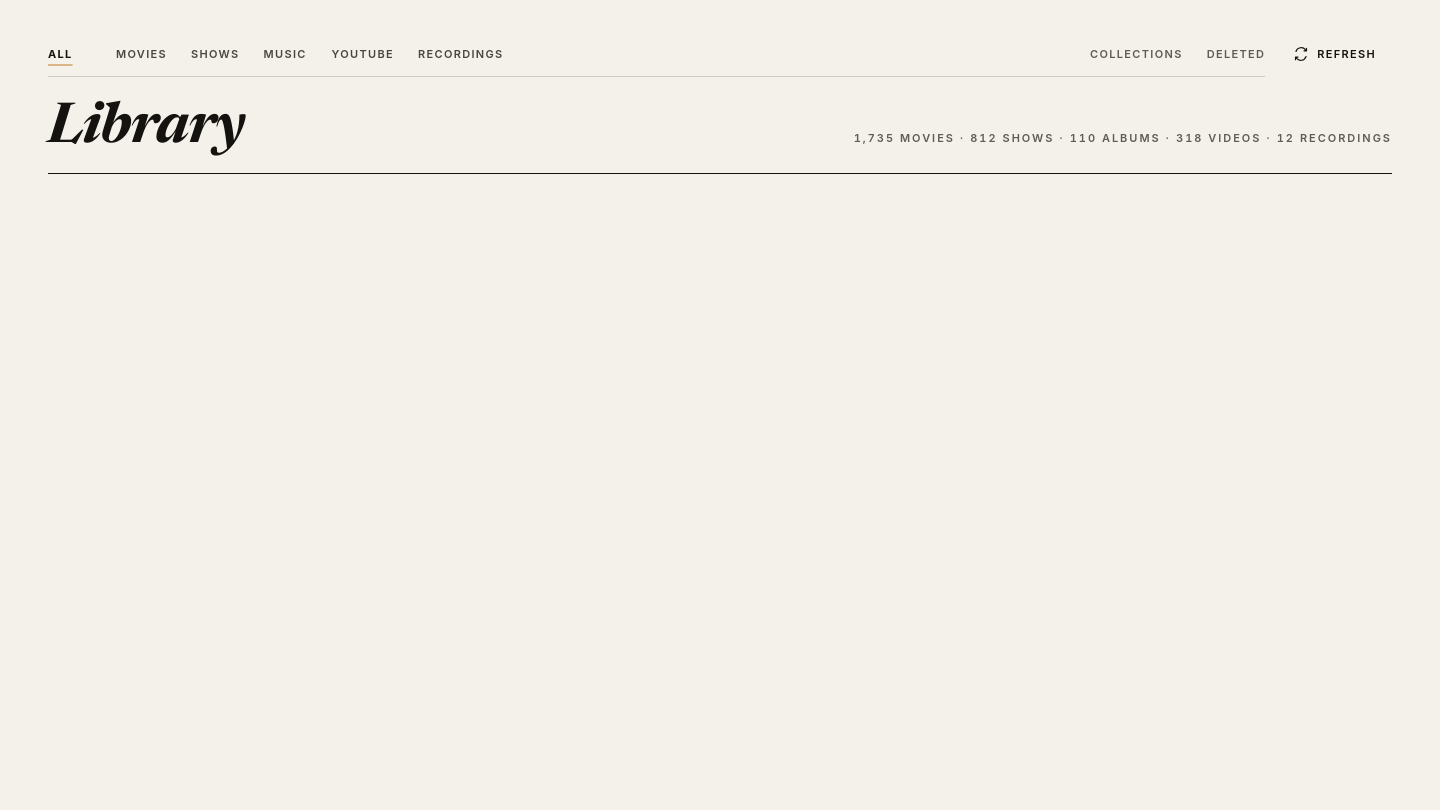
Test: Library lenses › reports when an owner has no eligible folders to scan
Click the button "Refresh".
click(1335, 54)  # box [1277,32,1392,76]
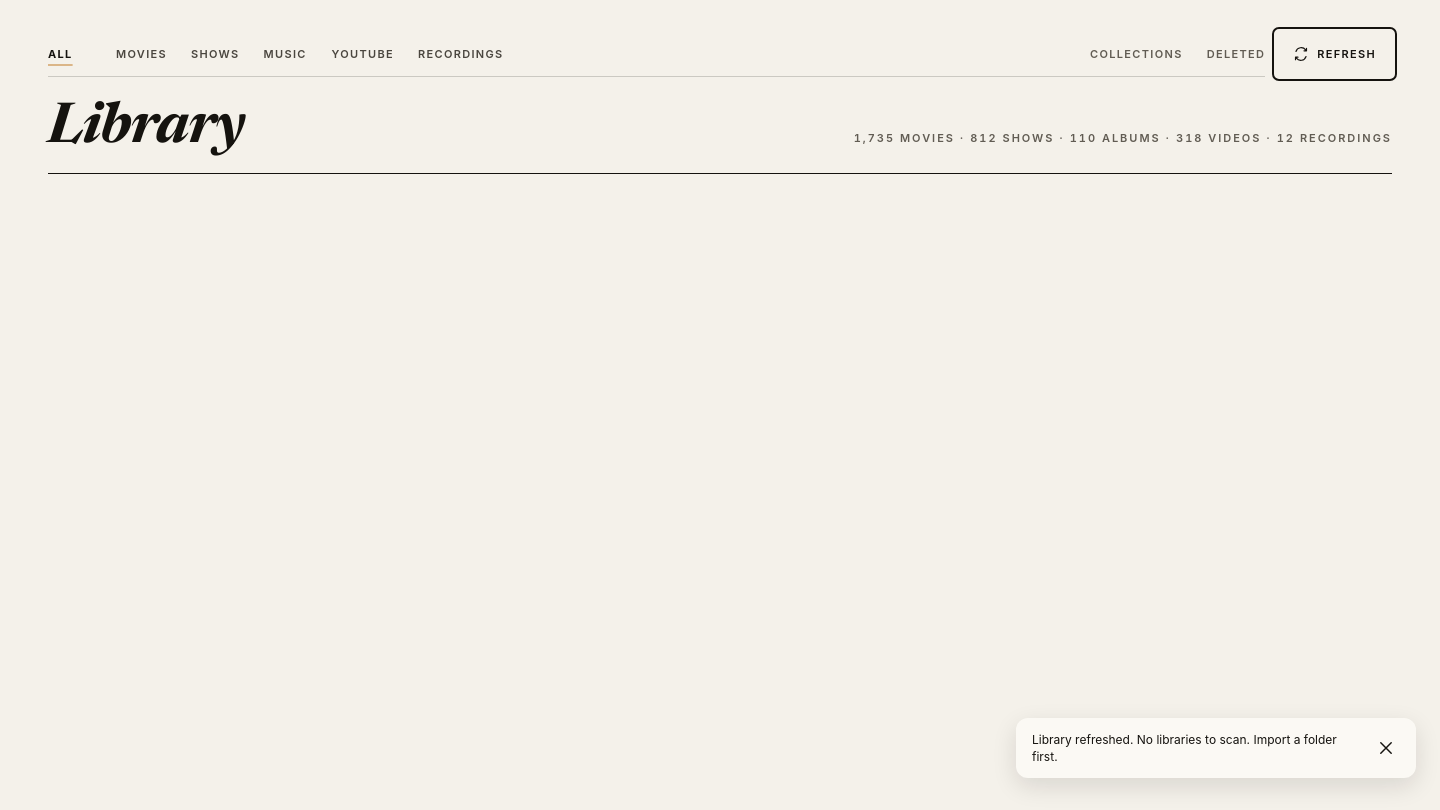
Expected: the text "Library refreshed. No libraries to scan. Import a folder first." is shown, [1032,731,1356,765]
